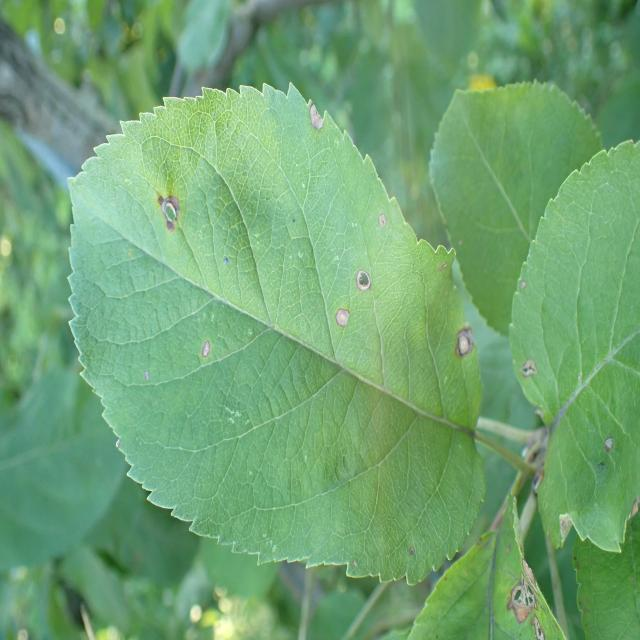Black Rot: (476, 553, 585, 640), (137, 164, 195, 280), (318, 283, 361, 349), (440, 314, 483, 380), (300, 89, 334, 157), (512, 341, 544, 404), (596, 412, 622, 487), (347, 253, 375, 308), (194, 322, 220, 370), (372, 199, 400, 243)
